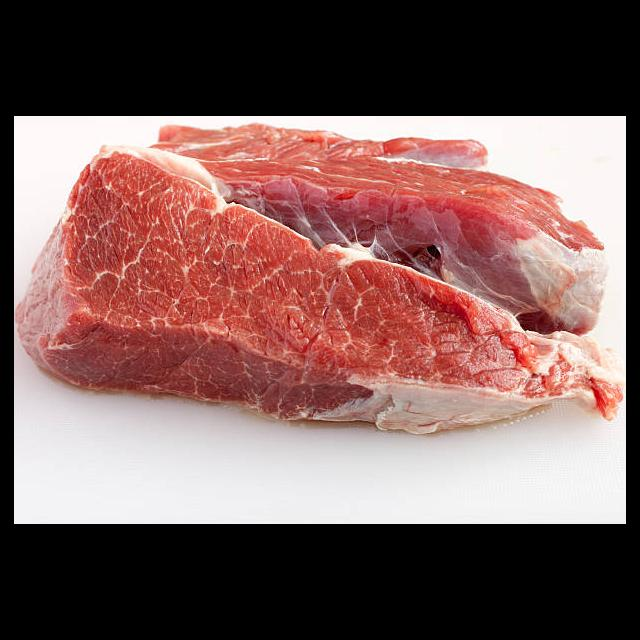beef: (15, 122, 625, 438)
